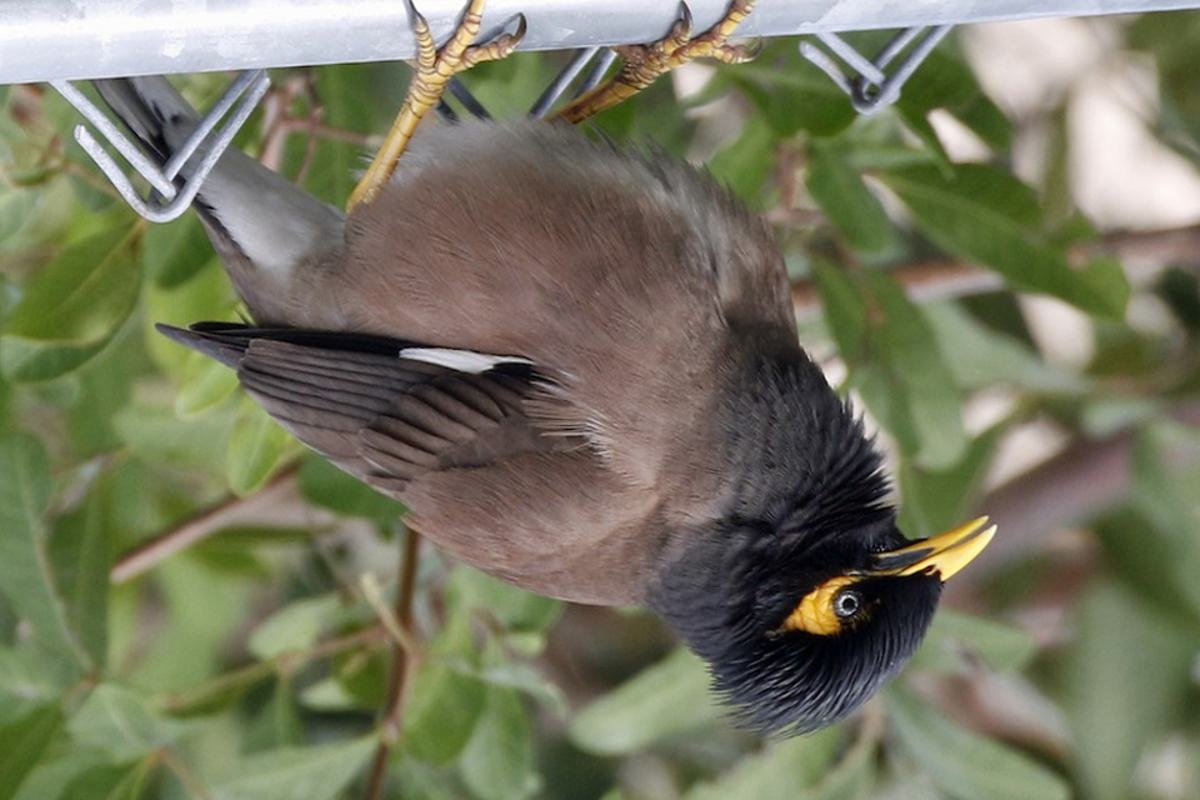myna: (299, 72, 996, 757)
